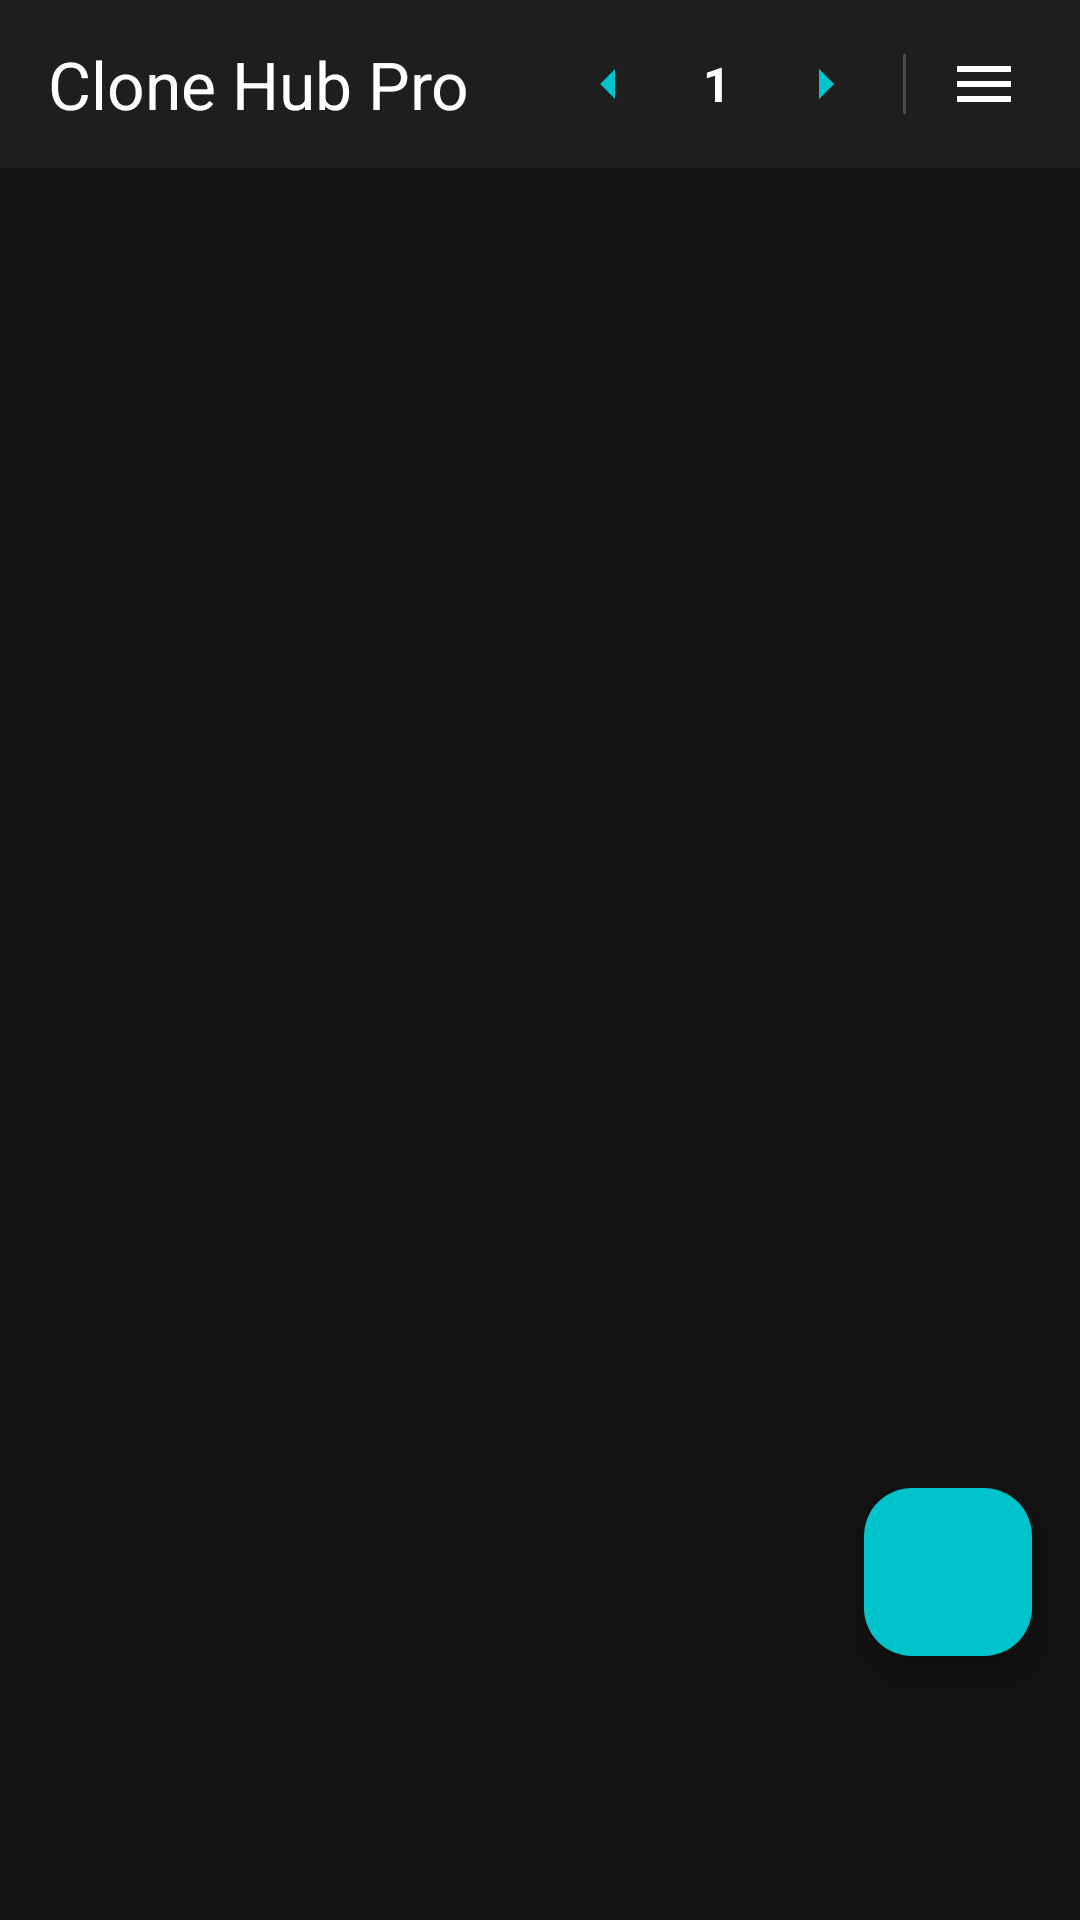

Locate icon controls on the screen. Image size 1080w x 1920h, boxes as box(x1, y1, x2, y2).
More options: box(957, 66, 1011, 102)
Next space: box(819, 69, 834, 99)
Previous space: box(600, 69, 615, 99)
